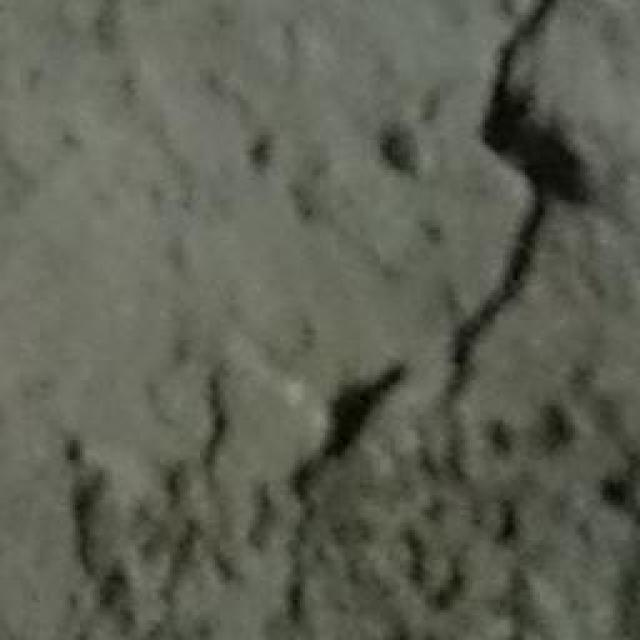Longitudinal: (438, 0, 604, 370)
Rippled: (37, 375, 640, 640)
